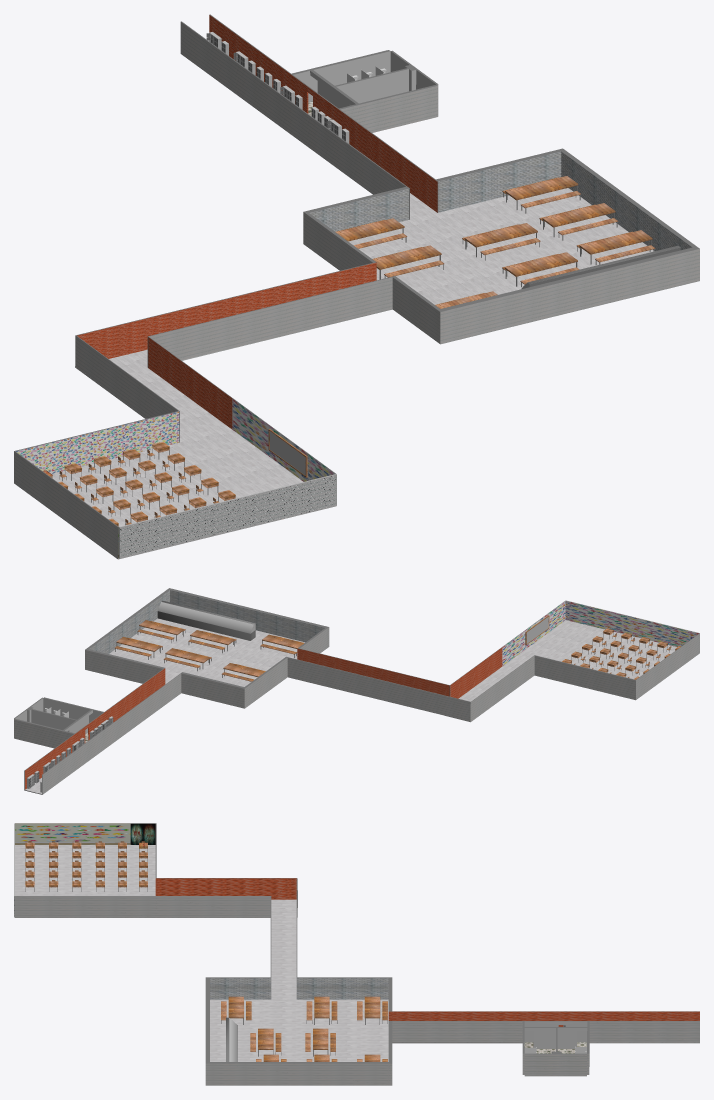
File: Escuela.fbx
3 renders of one model, top to bottom at view 1: azimuth 30°, elevation 25°; view 2: azimuth 150°, elevation 25°; view 3: azimuth 270°, elevation 25°, orthographic. The views are drawn at different scales.
Parts seen in each view (by area): view 1: Box003, Pared008, Pared018, Pared016, Pared1, Pared012, Pared2, Pared017, Pared014, Pared006, Pared007, Pared015 (+16 smaller); view 2: Box003, Pared012, Pared1, Pared008, Pared016, Pared014, Pared017, Pared2, Mostrador, Pared018, Pared006, Pared007 (+15 smaller); view 3: Box003, Pared2, Pared017, Pared007, Pared1, Pared015, Pared013, Pared010, Pared4, Pared009, Mesa1, Mesa8 (+7 smaller).
Boxes of the visible parts, left/top/right/bottom form: Box003: left=14, top=33, right=699, bottom=559; Pared008: left=441, top=247, right=695, bottom=342; Pared018: left=148, top=277, right=392, bottom=359; Pared016: left=119, top=474, right=336, bottom=558; Pared1: left=180, top=21, right=406, bottom=194; Pared012: left=75, top=263, right=373, bottom=366; Pared2: left=209, top=14, right=435, bottom=210; Pared017: left=147, top=336, right=336, bottom=505; Pared014: left=15, top=411, right=179, bottom=473; Pared006: left=434, top=149, right=561, bottom=212; Pared007: left=559, top=148, right=699, bottom=280; Pared015: left=14, top=451, right=118, bottom=557; Box003: left=24, top=618, right=699, bottom=794; Pared012: left=287, top=657, right=471, bottom=721; Pared1: left=42, top=673, right=181, bottom=794; Pared008: left=170, top=588, right=326, bottom=642; Pared016: left=566, top=600, right=699, bottom=646; Pared014: left=534, top=655, right=635, bottom=699; Pared017: left=449, top=600, right=565, bottom=698; Pared2: left=24, top=669, right=163, bottom=789; Mostrador: left=157, top=601, right=255, bottom=640; Pared018: left=299, top=648, right=449, bottom=696; Pared006: left=87, top=649, right=165, bottom=685; Pared007: left=85, top=588, right=171, bottom=669; Box003: left=14, top=845, right=699, bottom=1085; Pared2: left=392, top=1021, right=699, bottom=1042; Pared017: left=14, top=896, right=270, bottom=917; Pared007: left=205, top=1062, right=392, bottom=1084; Pared1: left=392, top=1011, right=699, bottom=1026; Pared015: left=15, top=823, right=156, bottom=844; Pared013: left=156, top=878, right=296, bottom=899; Pared010: left=296, top=977, right=392, bottom=999; Pared4: left=524, top=1053, right=586, bottom=1075; Pared009: left=205, top=977, right=271, bottom=999; Mesa1: left=306, top=996, right=337, bottom=1024; Mesa8: left=357, top=996, right=387, bottom=1024.
Size of the model in its own units: 154 by 6.6 by 186.
